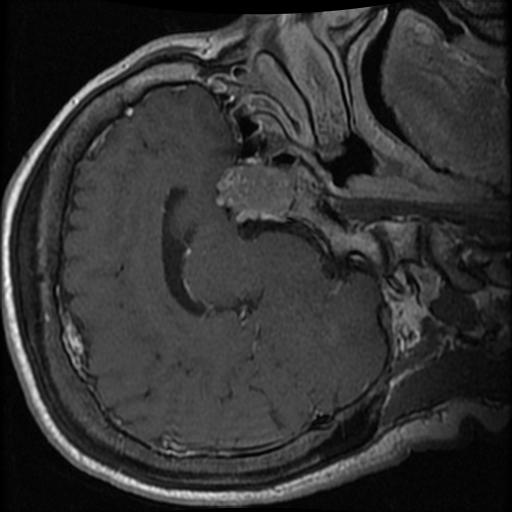pituitary tumour: (219, 163, 292, 219)
